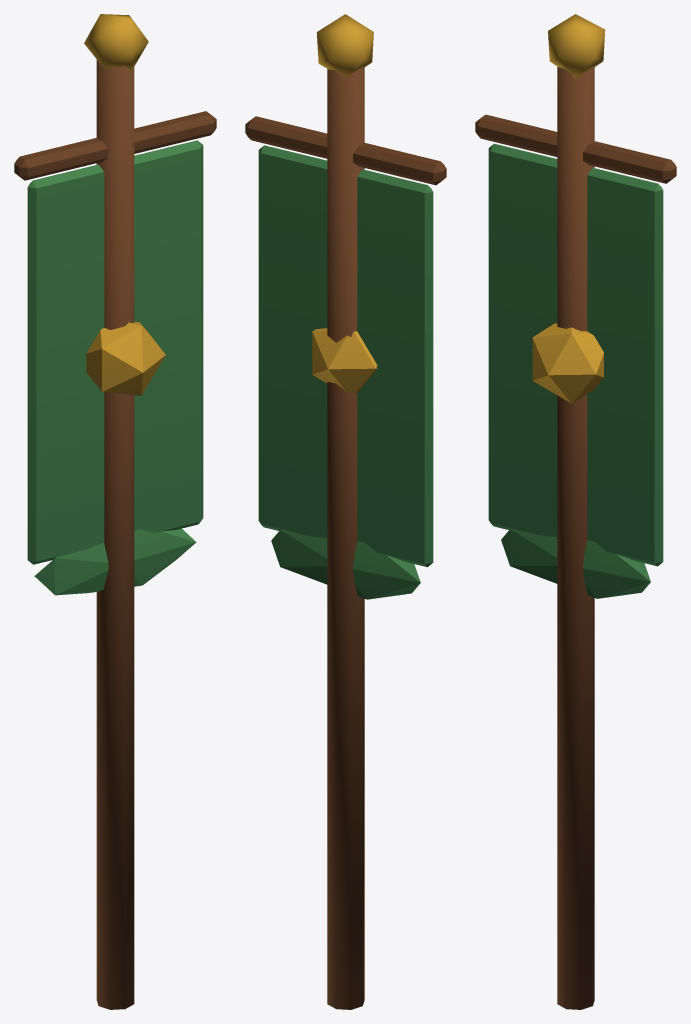
File: banner_green.glb
The picture shows the model from 3 angles, left to right: view 1: azimuth 30°, elevation 25°; view 2: azimuth 150°, elevation 25°; view 3: azimuth 330°, elevation 25°; orthographic projection.
Visible parts, largest first — view 1: banner_green; view 2: banner_green; view 3: banner_green.
Part boxes in pixels (x1=…): banner_green: x1=14, y1=14, x2=216, y2=1009; banner_green: x1=245, y1=14, x2=446, y2=1009; banner_green: x1=475, y1=14, x2=676, y2=1009.
Bounding box in the file's own units: 0.7 × 3.34 × 0.28.
